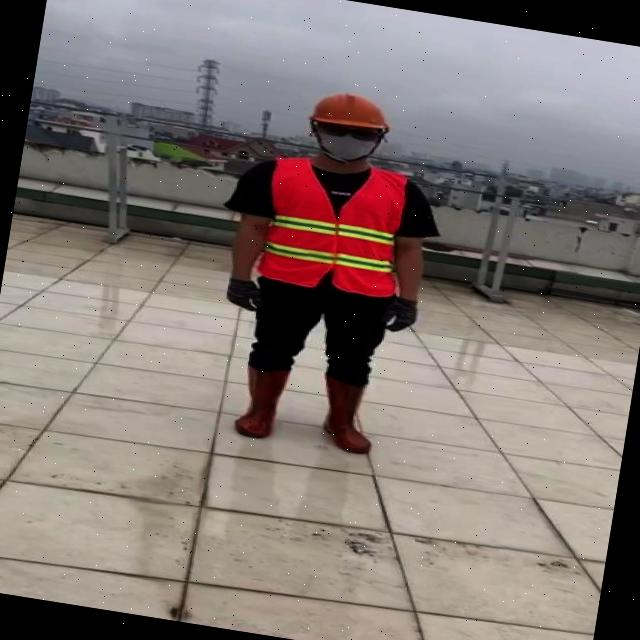boots: (308, 374, 387, 458), (233, 362, 286, 441)
